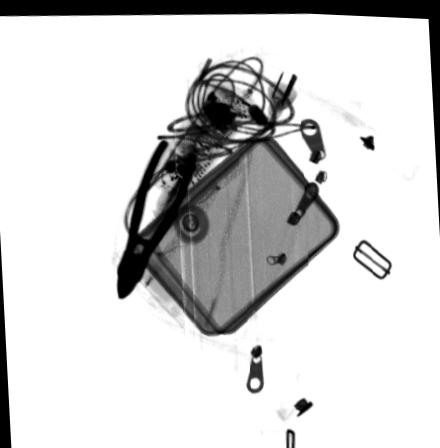Pliers: (115, 136, 199, 298)
